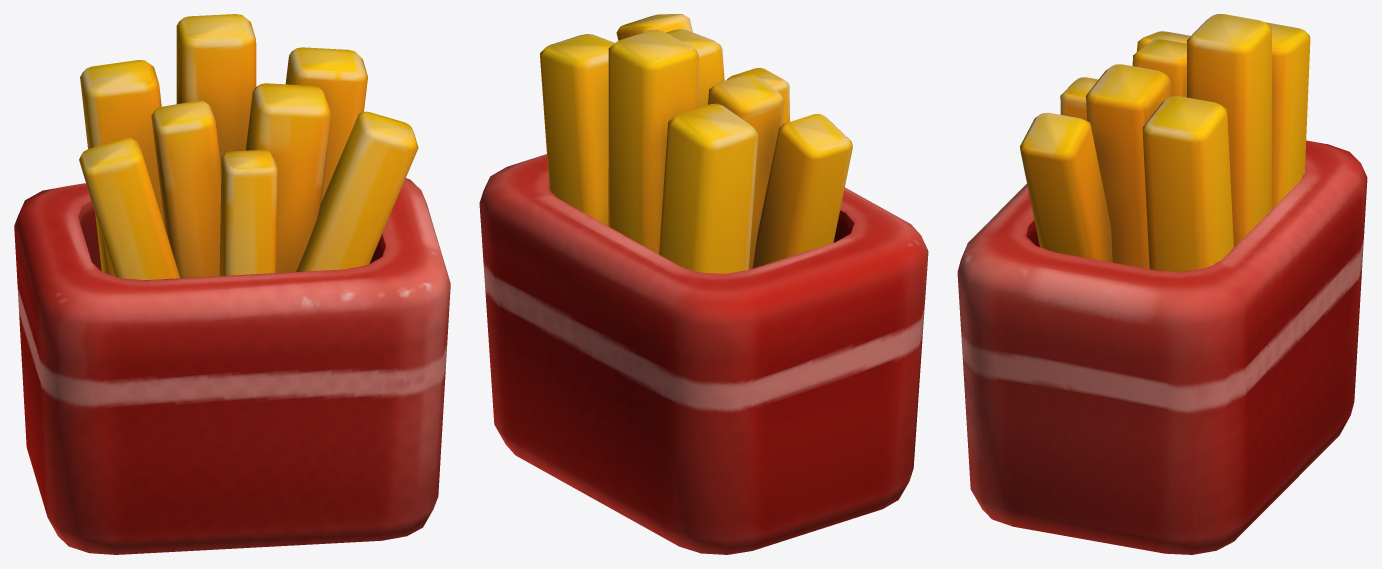
File: Fries.fbx
The picture shows the model from 3 angles, left to right: view 1: azimuth 30°, elevation 25°; view 2: azimuth 150°, elevation 25°; view 3: azimuth 270°, elevation 25°; orthographic projection.
Visible parts, largest first — view 1: Fries; view 2: Fries; view 3: Fries.
Boxes of the visible parts, left/top/right/bottom form: Fries: left=14, top=14, right=450, bottom=554; Fries: left=479, top=14, right=928, bottom=554; Fries: left=957, top=14, right=1367, bottom=554.
Bounding box in the file's own units: 19.68 × 20.88 × 17.1.
1 material, 1 textured.
